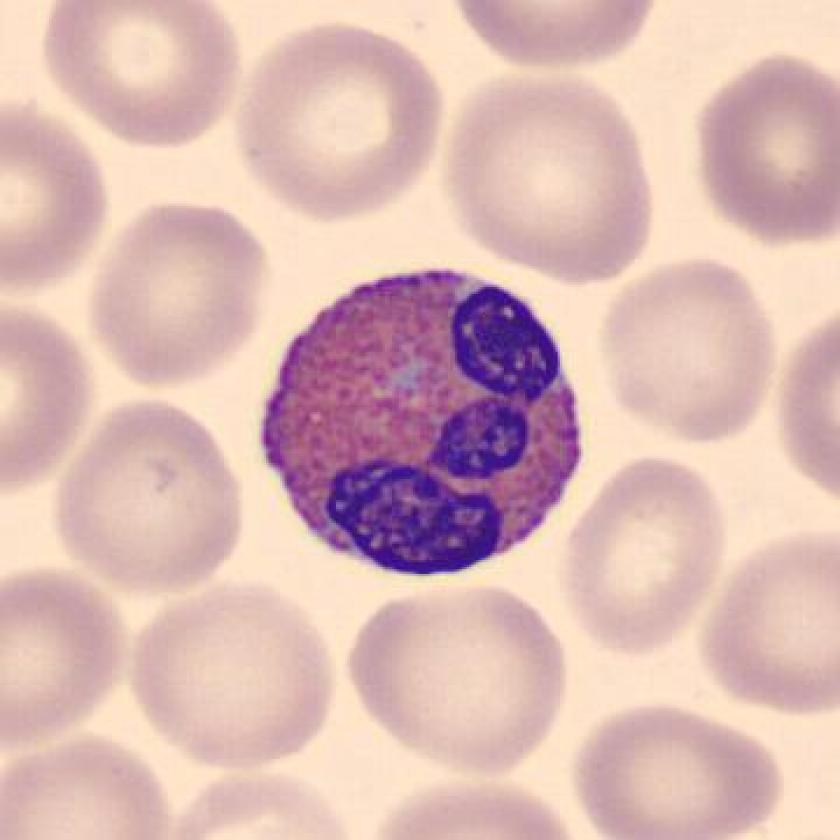eosinophil: (253, 253, 594, 589)
